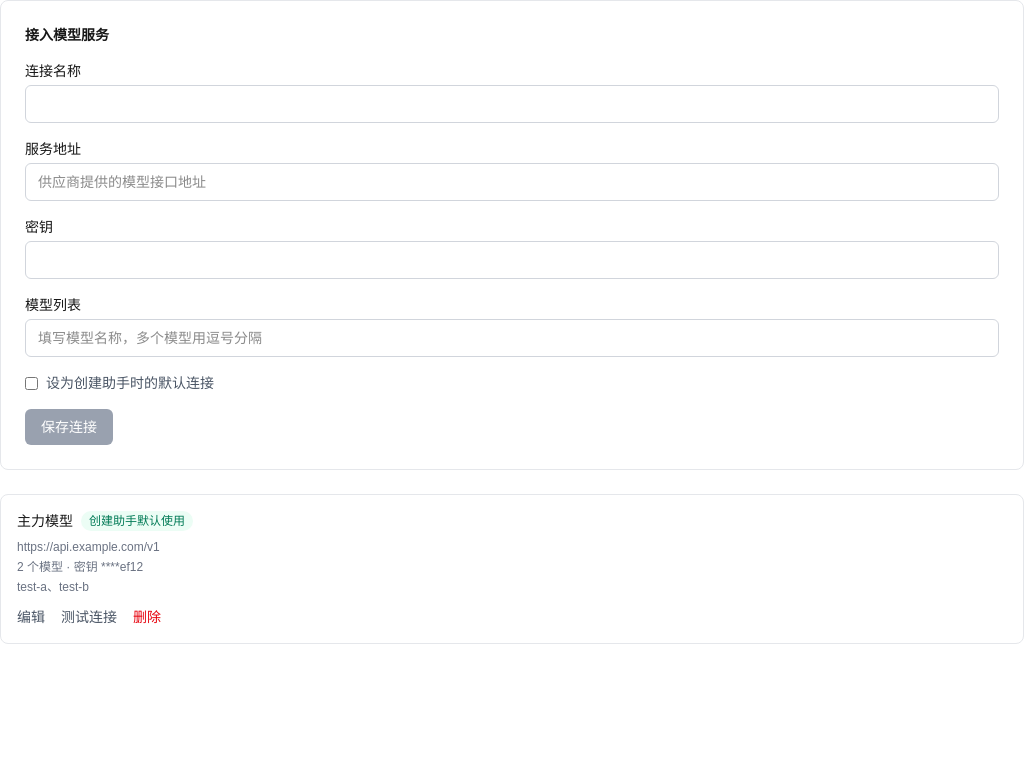
Test case: 模型连接管理界面 › 请求中断时恢复按钮并显示中文错误
The width and height of the screenshot is (1024, 768).
Step 1. Click the button "测试连接" → (89, 617), box 61,607 -> 117,627
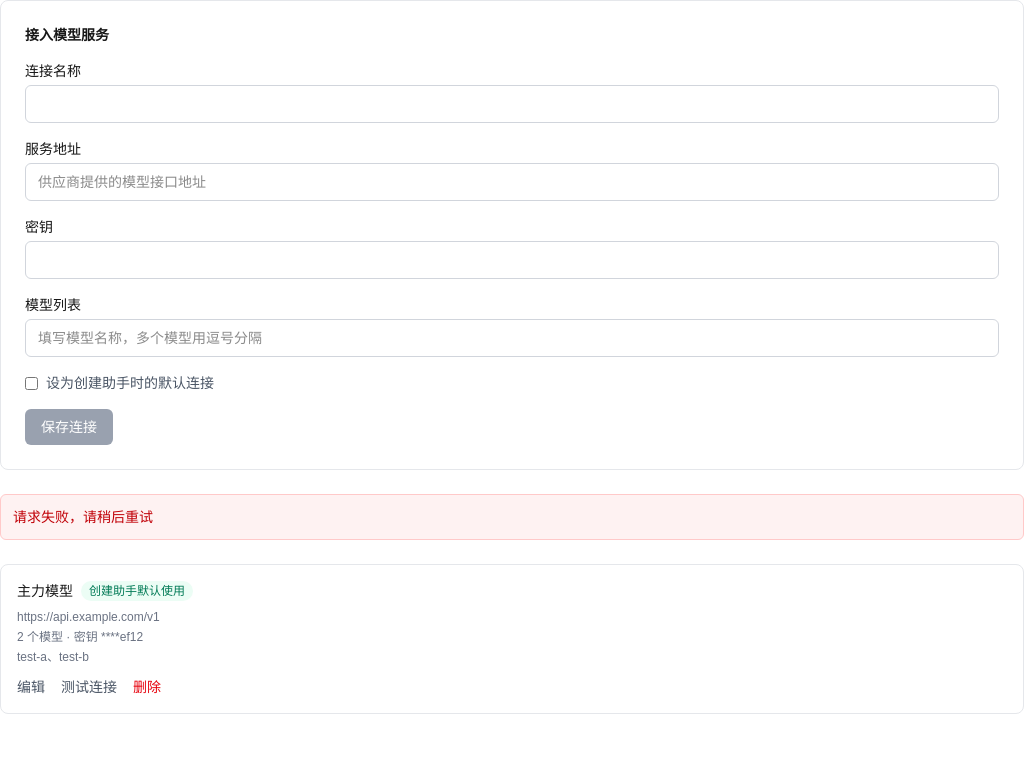
Expected: the button "测试连接" is enabled, 61,677 -> 117,697
Expected: the message reads "请求失败，请稍后重试", 13,509 -> 153,525
